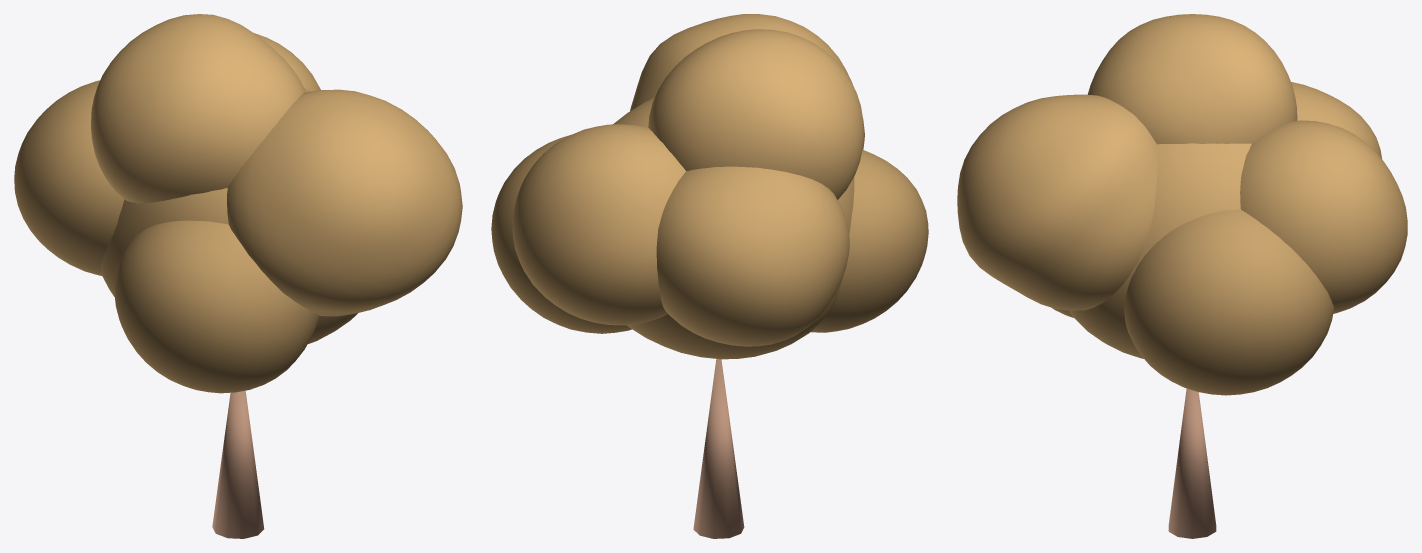
The model's file is tree_a_autumn.glb.
3 renders of one model, left to right at view 1: azimuth 30°, elevation 25°; view 2: azimuth 150°, elevation 25°; view 3: azimuth 270°, elevation 25°, orthographic. The views are drawn at different scales.
Visible parts, largest first — view 1: crown, trunk; view 2: crown, trunk; view 3: crown, trunk.
Boxes of the visible parts, x1,y1,x2,y2 form: crown: (14, 14, 462, 393); trunk: (212, 390, 264, 538); crown: (491, 14, 928, 359); trunk: (693, 359, 744, 538); crown: (957, 14, 1407, 395); trunk: (1168, 388, 1216, 538).
Bounding box in the file's own units: 5.12 × 6.88 × 5.76.
